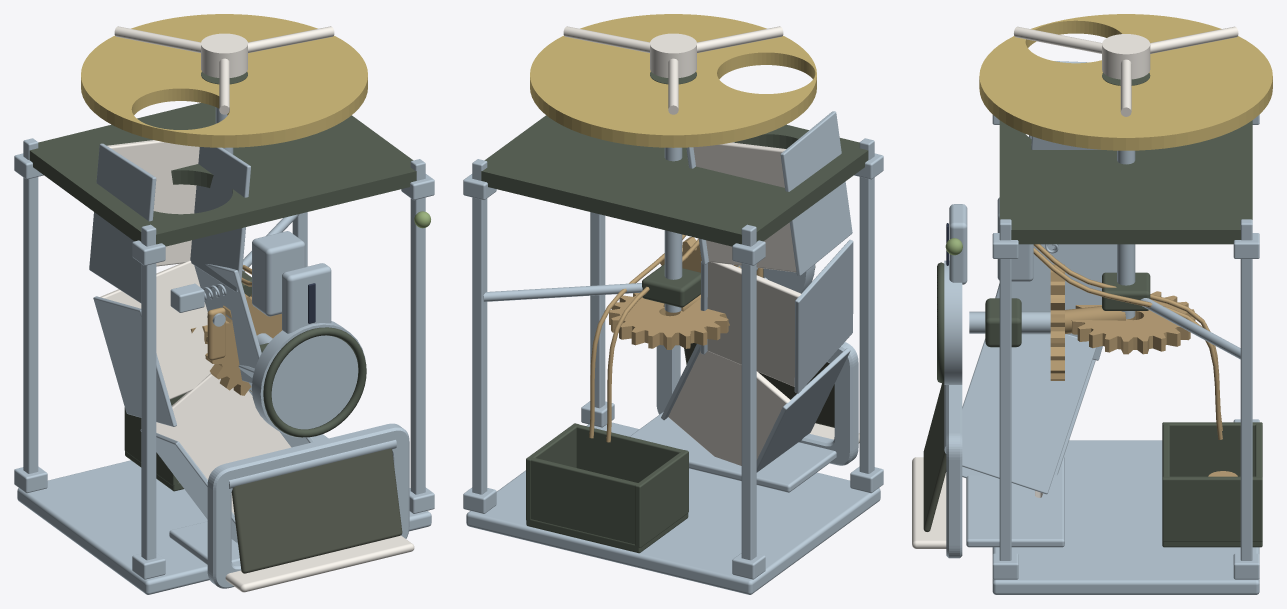
Rendered from machine-friends-core.prefab.glb.
3 renders of one model, left to right at view 1: azimuth 30°, elevation 25°; view 2: azimuth 150°, elevation 25°; view 3: azimuth 270°, elevation 25°, orthographic. The views are drawn at different scales.
Visible parts, largest first — view 1: PaperCapsuleMachine_Batch0, PaperCapsuleMachine_Batch1, MeteringDisc_Batch0, OutletFlap_Batch0, Stirrer_Batch0, DriveGear_Batch0, LockPawl_Batch0; view 2: PaperCapsuleMachine_Batch0, PaperCapsuleMachine_Batch1, MeteringDisc_Batch0, BevelGear_Batch0, Stirrer_Batch0, Spindle_Batch0, OutletFlap_Batch0; view 3: PaperCapsuleMachine_Batch0, PaperCapsuleMachine_Batch1, MeteringDisc_Batch0, Stirrer_Batch0, BevelGear_Batch0, OutletFlap_Batch0, DriveGear_Batch0, Spindle_Batch0.
Boxes of the visible parts, x1,y1,x2,y2 form: PaperCapsuleMachine_Batch0: [14, 138, 434, 594]; PaperCapsuleMachine_Batch1: [29, 103, 430, 592]; MeteringDisc_Batch0: [81, 14, 367, 147]; OutletFlap_Batch0: [231, 448, 402, 573]; Stirrer_Batch0: [114, 26, 334, 114]; DriveGear_Batch0: [205, 294, 282, 395]; LockPawl_Batch0: [207, 307, 225, 360]; PaperCapsuleMachine_Batch0: [463, 111, 883, 594]; PaperCapsuleMachine_Batch1: [481, 115, 868, 553]; MeteringDisc_Batch0: [530, 14, 816, 147]; BevelGear_Batch0: [609, 293, 729, 349]; Stirrer_Batch0: [563, 26, 783, 114]; Spindle_Batch0: [664, 147, 682, 312]; OutletFlap_Batch0: [684, 343, 834, 427]; PaperCapsuleMachine_Batch0: [944, 61, 1259, 594]; PaperCapsuleMachine_Batch1: [912, 120, 1262, 548]; MeteringDisc_Batch0: [979, 14, 1272, 150]; Stirrer_Batch0: [1014, 26, 1238, 116]; BevelGear_Batch0: [1071, 291, 1195, 354]; OutletFlap_Batch0: [923, 382, 946, 531]; DriveGear_Batch0: [1050, 264, 1064, 380]; Spindle_Batch0: [1117, 150, 1135, 319].
Size of the model in its own units: 0.171 by 0.264 by 0.1795.
Materials: 2 (2 with a texture image).
